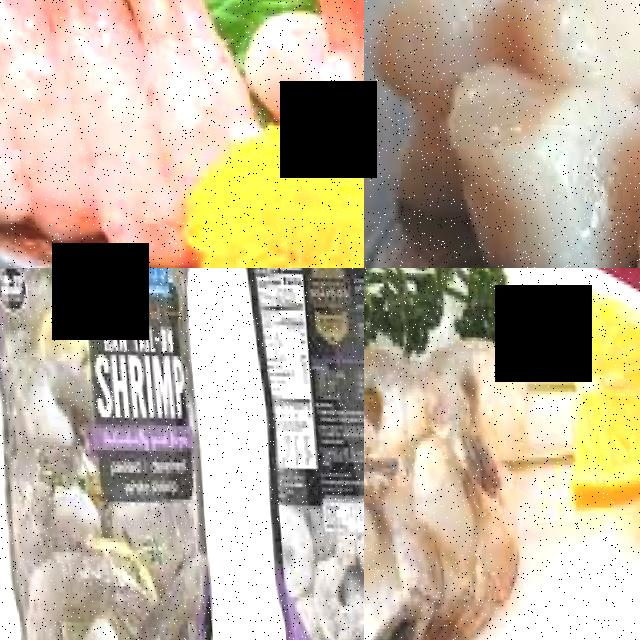lemon: (547, 275, 640, 525)
sea scallops: (428, 63, 625, 268), (500, 0, 640, 92)
shrimp: (405, 481, 519, 640), (423, 333, 525, 459), (364, 459, 433, 640), (294, 554, 361, 640)
